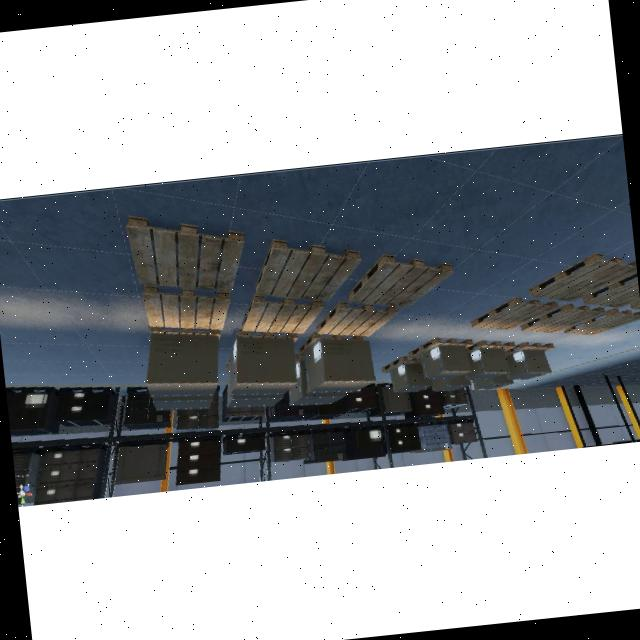wooden_pallet: (407, 337, 473, 358), (504, 341, 555, 356), (379, 356, 421, 372), (466, 340, 516, 353)
